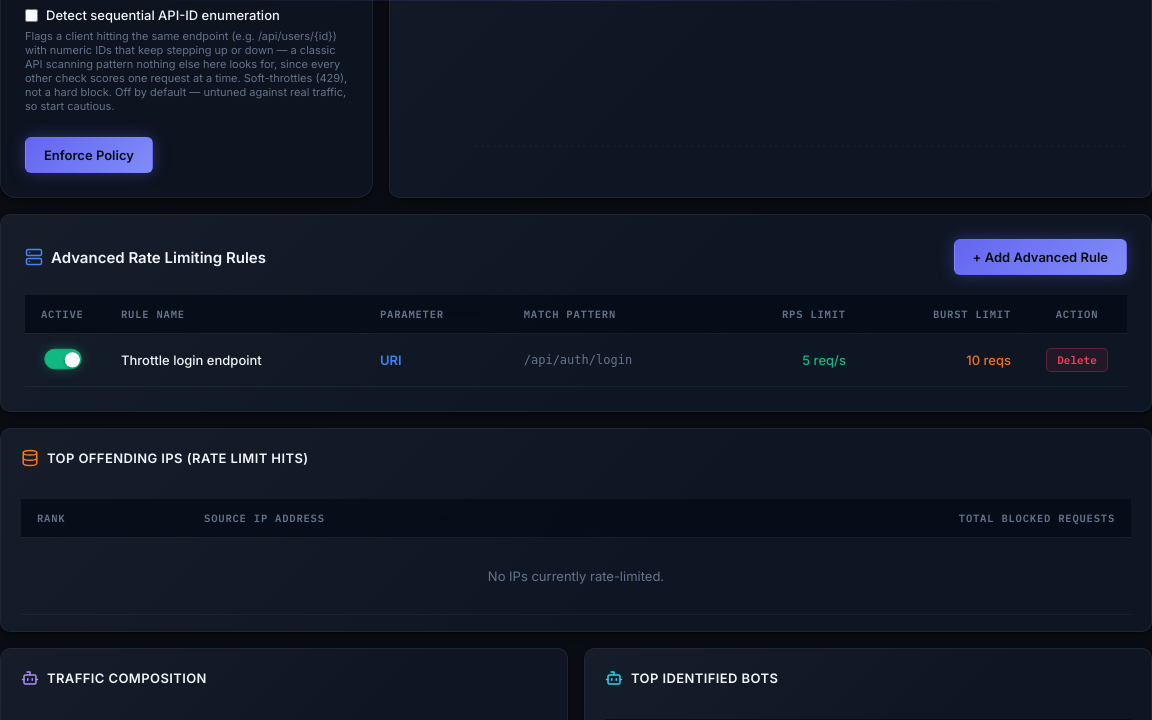
Test case: DdosBotMitigation — advanced rule deletion › asks for confirmation naming the rule, and does not save if cancelled
(page scrolled)
Click the button "Delete".
click(1077, 360)  # box x1=1046 y1=348 x2=1108 y2=372
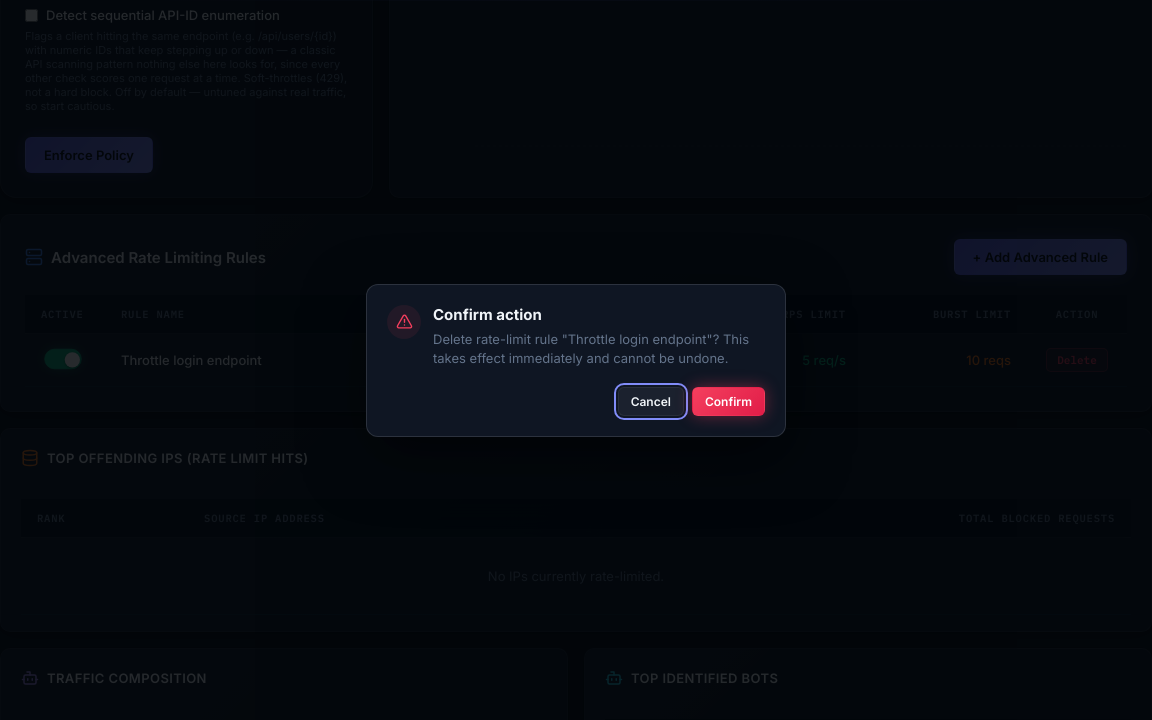
Now the text "Throttle login endpoint" is shown, box x1=433 y1=330 x2=749 y2=366
Click the button "Cancel".
click(651, 401)  # box x1=618 y1=386 x2=684 y2=416
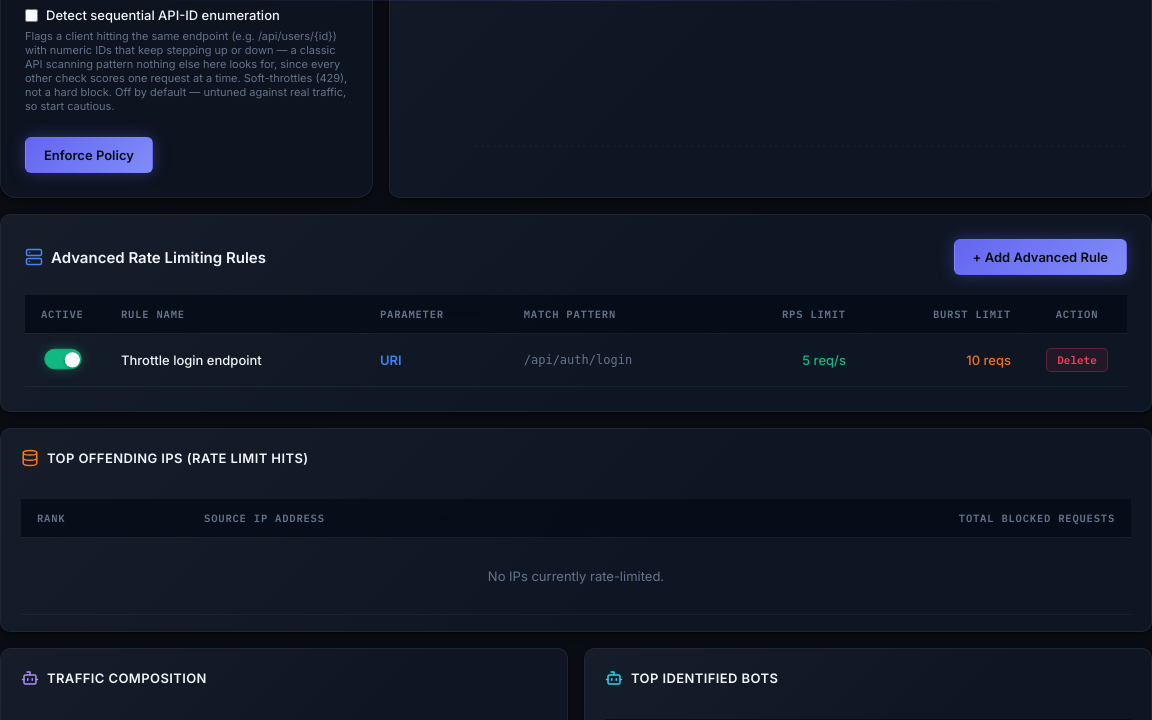
Expected: the text "Throttle login endpoint" is shown, x1=105 y1=334 x2=364 y2=386
Now the dialog is gone
